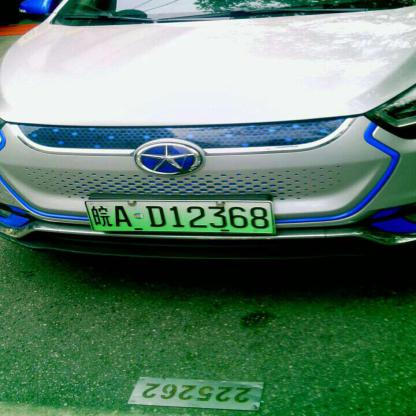lp: (85, 202, 274, 233)
